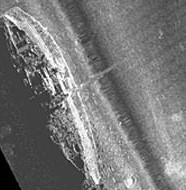ship: (1, 9, 101, 186)
